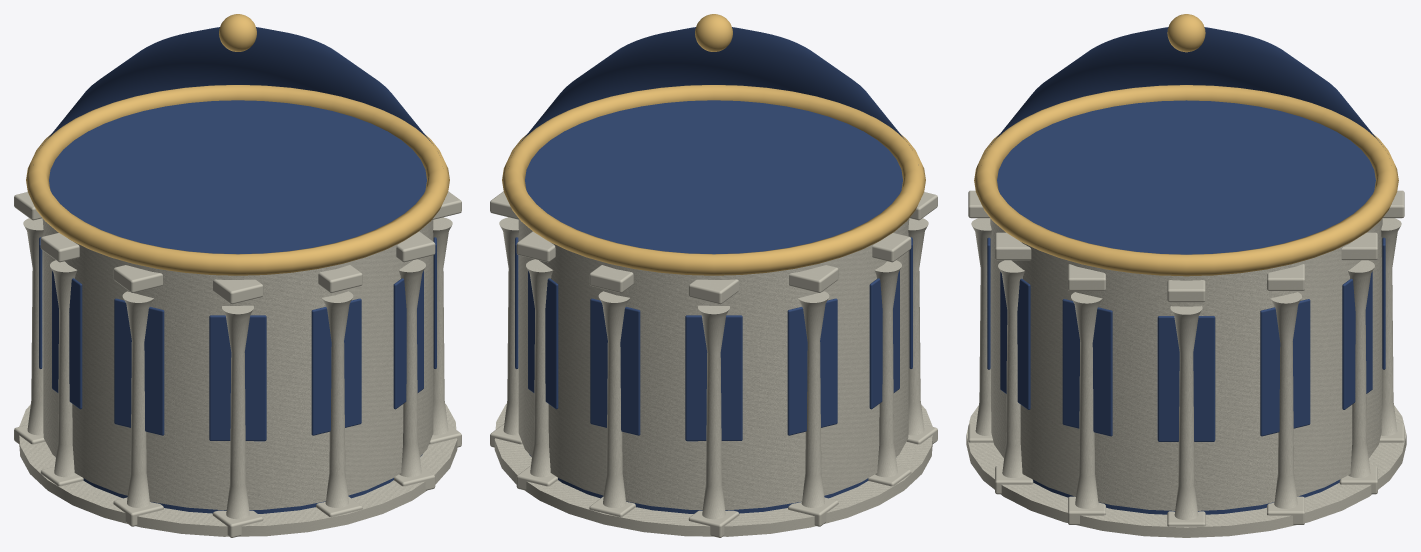
Rendered from arcane-academy-and-spell-trials-observatory-dome-pavil-261e6f00__28289.glb.
The picture shows the model from 3 angles, left to right: view 1: azimuth 30°, elevation 25°; view 2: azimuth 150°, elevation 25°; view 3: azimuth 270°, elevation 25°; orthographic projection.
Visible parts, largest first — view 1: observatory-dome-pavilion; view 2: observatory-dome-pavilion; view 3: observatory-dome-pavilion.
Part boxes in pixels (x1=…): observatory-dome-pavilion: x1=14, y1=14, x2=461, y2=537; observatory-dome-pavilion: x1=490, y1=14, x2=937, y2=537; observatory-dome-pavilion: x1=966, y1=14, x2=1406, y2=537.
Bounding box in the file's own units: 4.6 × 4.95 × 4.6.
3 materials, 1 textured.
